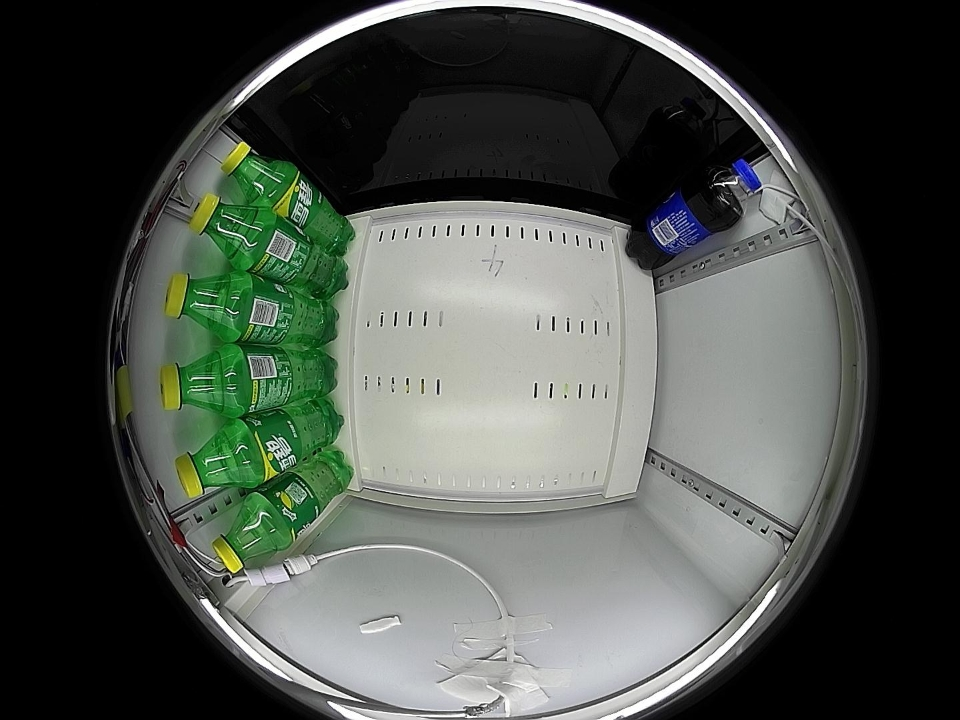baishikele-2: (701, 158, 764, 220)
xuebi-b: (190, 193, 263, 265), (174, 428, 246, 499), (212, 501, 281, 575), (160, 350, 231, 416), (165, 272, 236, 337), (221, 141, 289, 203)
